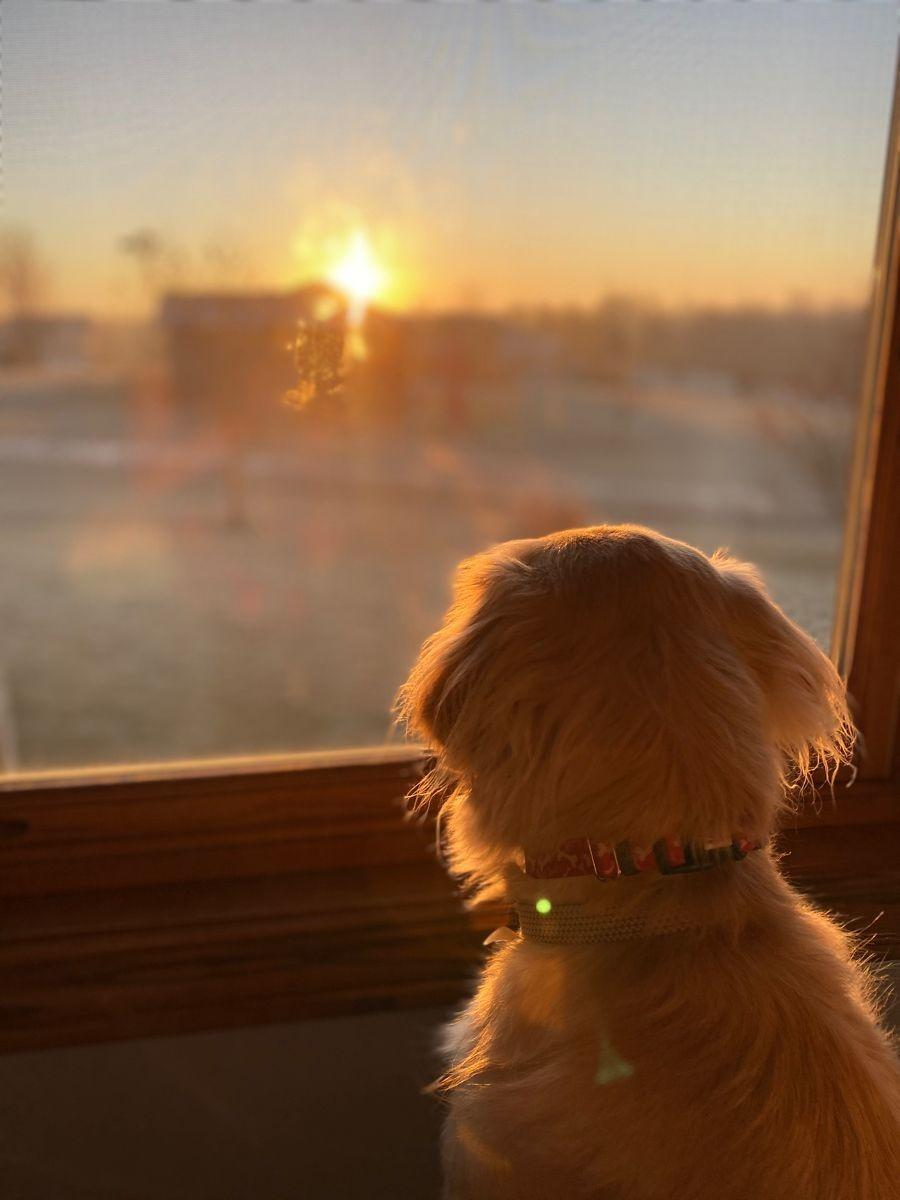adult_dog: (392, 522, 900, 1200)
